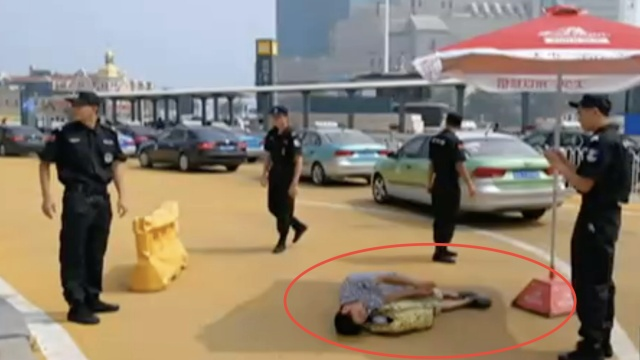fall: (324, 266, 500, 344)
